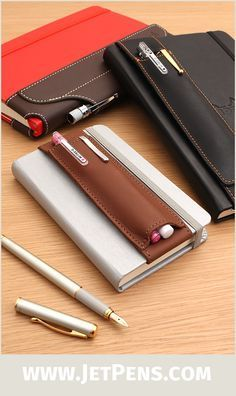cuero: (6, 24, 236, 265)
